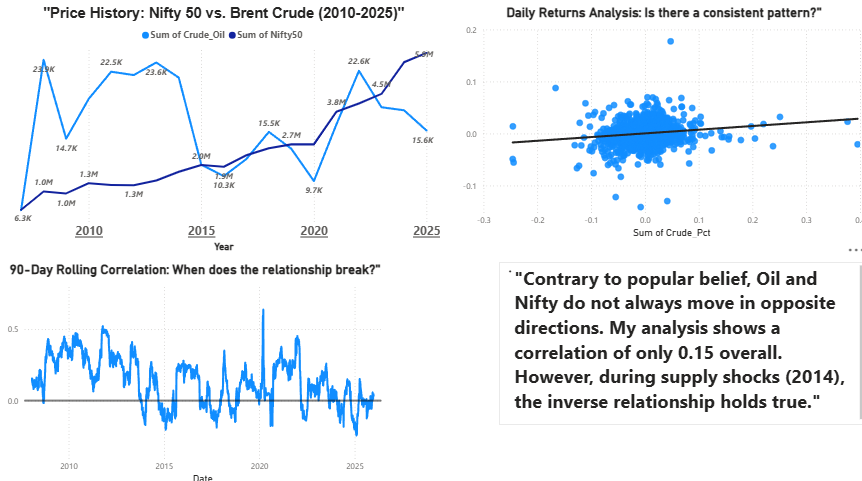

This screenshot's page, from the dashboard's own definition file:
{"tool":"powerbi","page":{"name":"Page 1","canvas":[1280,720],"ordinal":0},"visuals":[{"type":"lineChart","title":"\"Price History: Nifty 50 vs. Brent Crude (2010-2025)\"","fields":{"Category":["Nifty_vs_Oil_Analysis.Date.Variation.Date Hierarchy.Year","Nifty_vs_Oil_Analysis.Date.Variation.Date Hierarchy.Quarter","Nifty_vs_Oil_Analysis.Date.Variation.Date Hierarchy.Month","Nifty_vs_Oil_Analysis.Date.Variation.Date Hierarchy.Day"],"Y":["Sum(Nifty_vs_Oil_Analysis.Crude_Oil)"],"Y2":["Sum(Nifty_vs_Oil_Analysis.Nifty50)"]},"box":[15.1,15.1,643.4,366.2],"z":0},{"type":"scatterChart","title":"Daily Returns Analysis: Is there a consistent pattern?\"","fields":{"Y":["Sum(Nifty_vs_Oil_Analysis.Nifty_Pct)"],"X":["Sum(Nifty_vs_Oil_Analysis.Crude_Pct)"],"Category":["Nifty_vs_Oil_Analysis.Date"]},"box":[680.5,14.6,600,345.4],"z":1000},{"type":"lineChart","title":"90-Day Rolling Correlation: When does the relationship break?\"","fields":{"Y":["Avg(Nifty_vs_Oil_Analysis.Rolling_Corr)"],"Category":["Nifty_vs_Oil_Analysis.Date"]},"box":[14.6,390.7,559,329.3],"z":1001},{"type":"textbox","box":[739,390.7,541.5,238.5],"z":1002}]}

Visuals, with their boxes in screenshot pixels (x1, y1, x2, y2), scaled from the page's 1280x720 canvas onto the 862x481 screenshot:
""Price History: Nifty 50 vs. Brent Crude (2010-2025)"" lineChart: 10, 10, 443, 255
"Daily Returns Analysis: Is there a consistent pattern?"" scatterChart: 458, 10, 861, 240
"90-Day Rolling Correlation: When does the relationship break?"" lineChart: 10, 261, 386, 480
textbox: 498, 261, 861, 420
